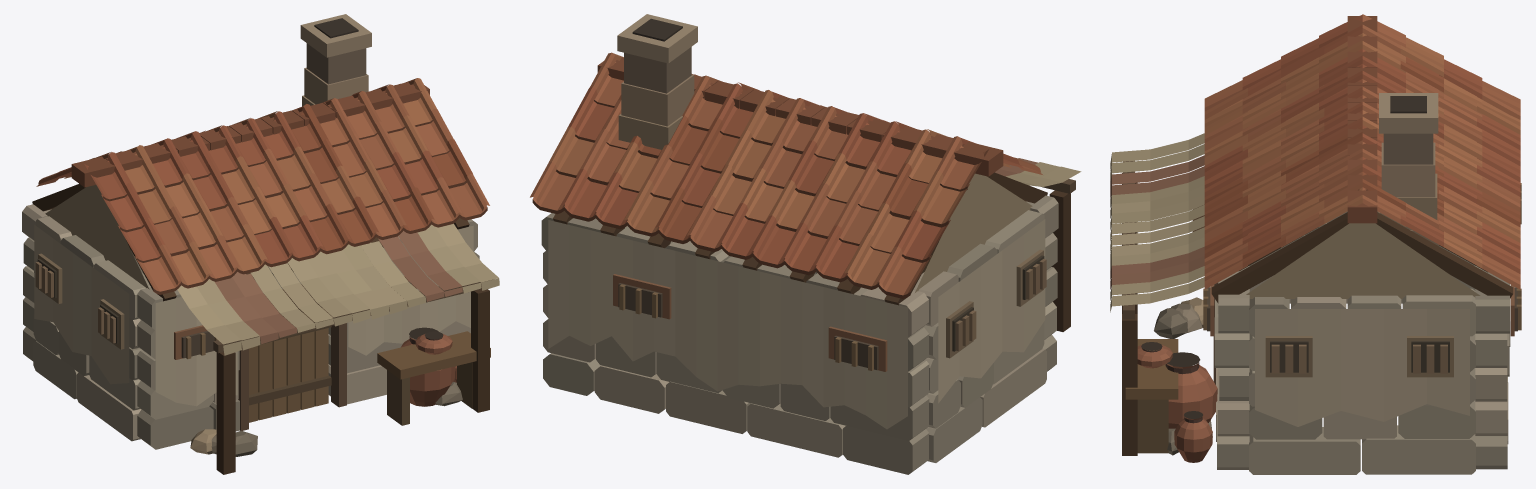
File: workshop.glb
3 views of the same model, side by side, from view 1: azimuth 30°, elevation 25°; view 2: azimuth 150°, elevation 25°; view 3: azimuth 270°, elevation 25° (orthographic). The views are drawn at different scales.
Visible parts, largest first — view 1: workshop; view 2: workshop; view 3: workshop.
Boxes of the visible parts, bbox=[...] form: workshop: bbox=[22, 14, 499, 474]; workshop: bbox=[530, 14, 1081, 474]; workshop: bbox=[1110, 14, 1521, 474].
Size of the model in its own units: 1.06 by 0.8556 by 0.938.
